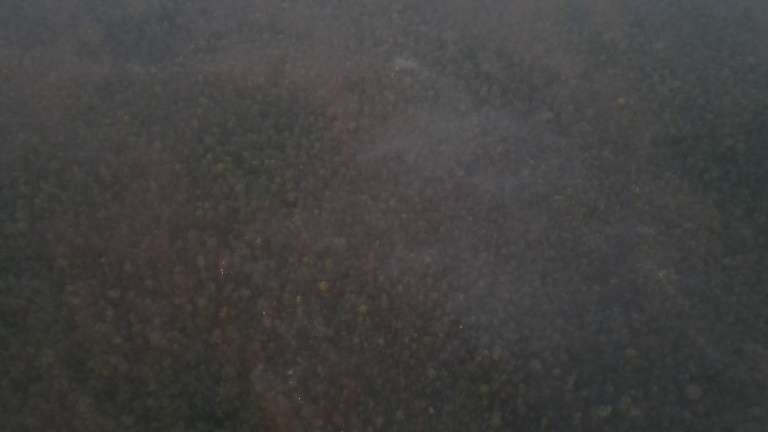fire: (232, 231, 264, 253), (387, 59, 408, 82), (218, 258, 229, 278)
smoke: (391, 50, 426, 76)
